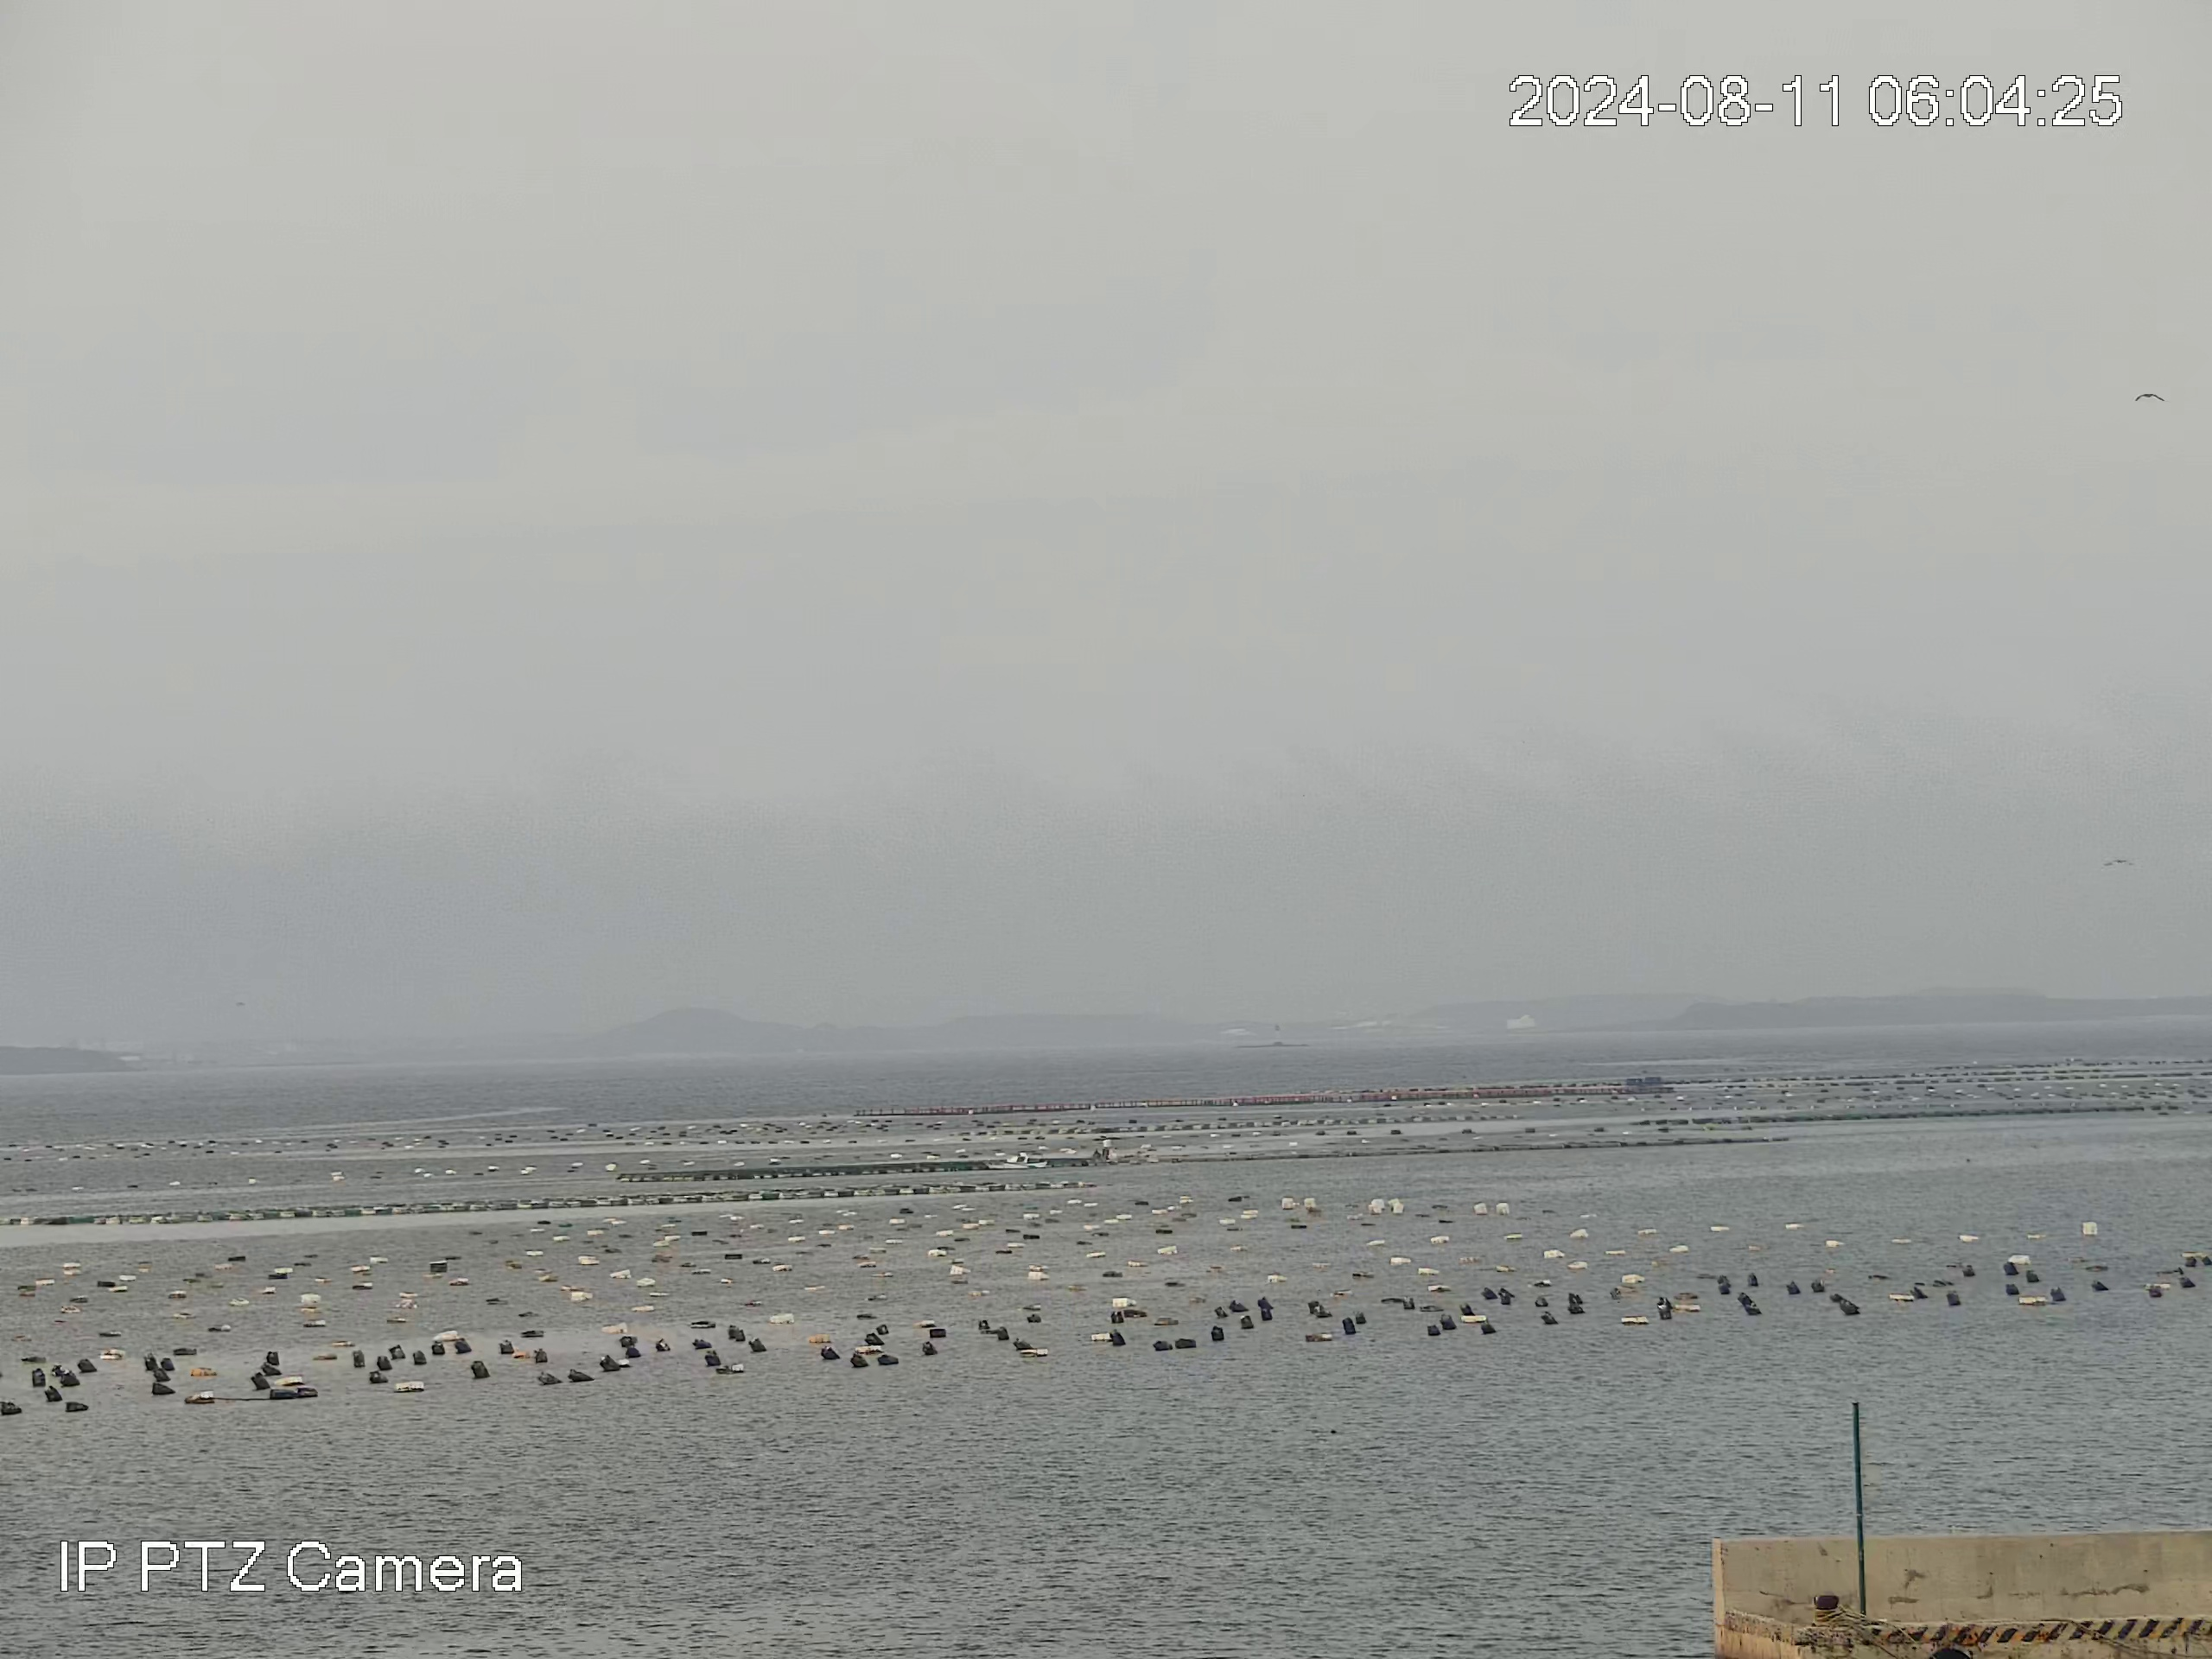boat: (981, 1150, 1050, 1171)
